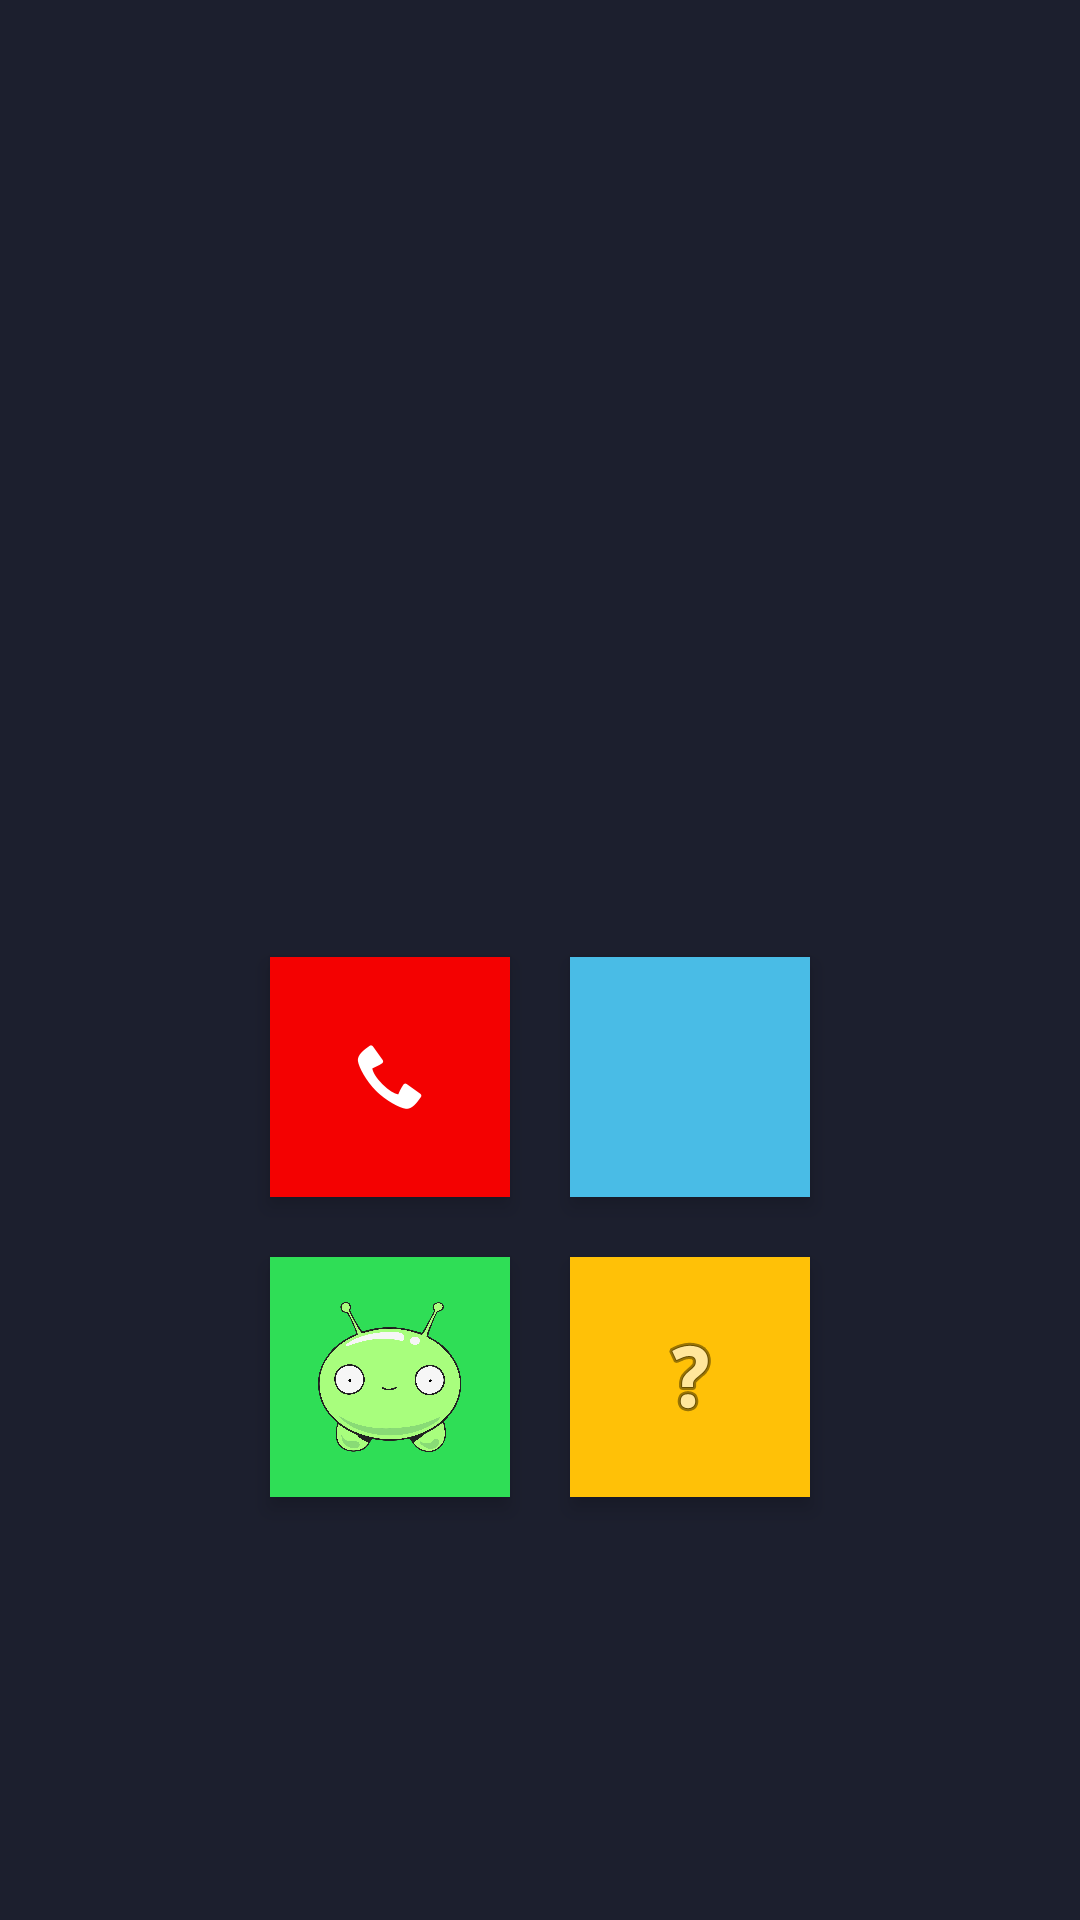

Named icons in this screenshot (1080px x 1920px) and their centers, [x,y]:
help: [690,1377]
phone call: [390,1077]
